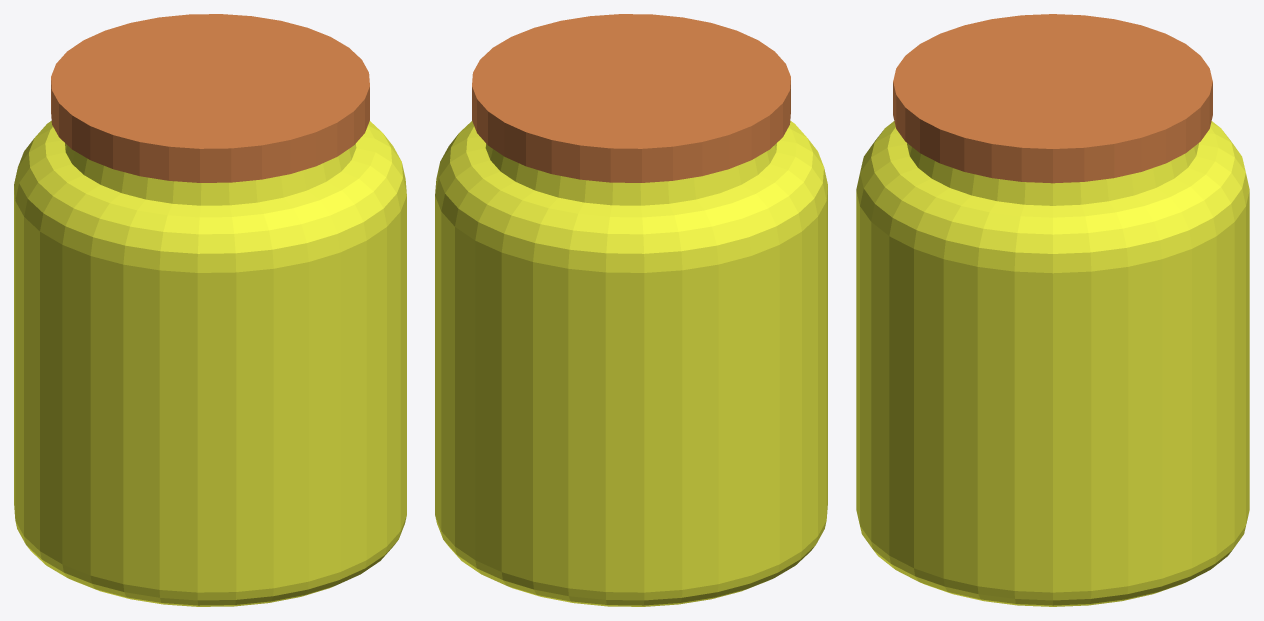
The model's file is HoneyJar.fbx.
3 renders of one model, left to right at view 1: azimuth 30°, elevation 25°; view 2: azimuth 150°, elevation 25°; view 3: azimuth 270°, elevation 25°, orthographic.
Parts seen in each view (by area): view 1: Cylinder; view 2: Cylinder; view 3: Cylinder.
Part boxes in pixels (x1=…): Cylinder: x1=14, y1=14, x2=406, y2=606; Cylinder: x1=435, y1=14, x2=827, y2=606; Cylinder: x1=856, y1=14, x2=1249, y2=606.
Size of the model in its own units: 17.84 by 22.54 by 17.84.
